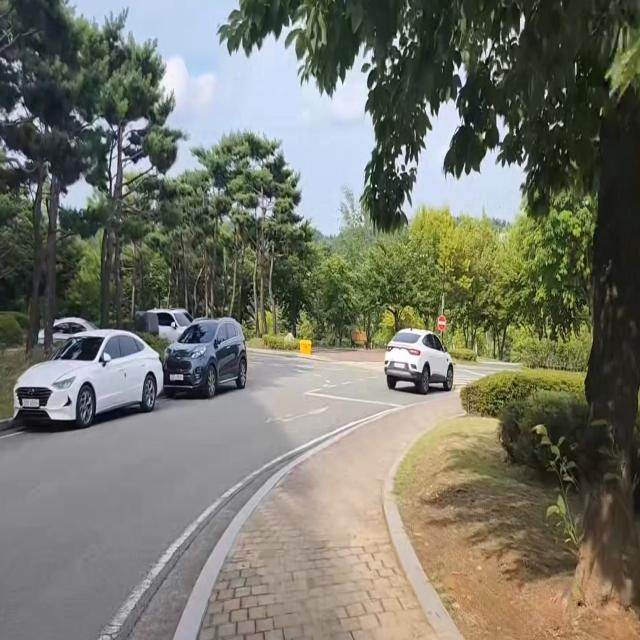obstacle: (10, 321, 167, 437), (159, 313, 251, 405)
